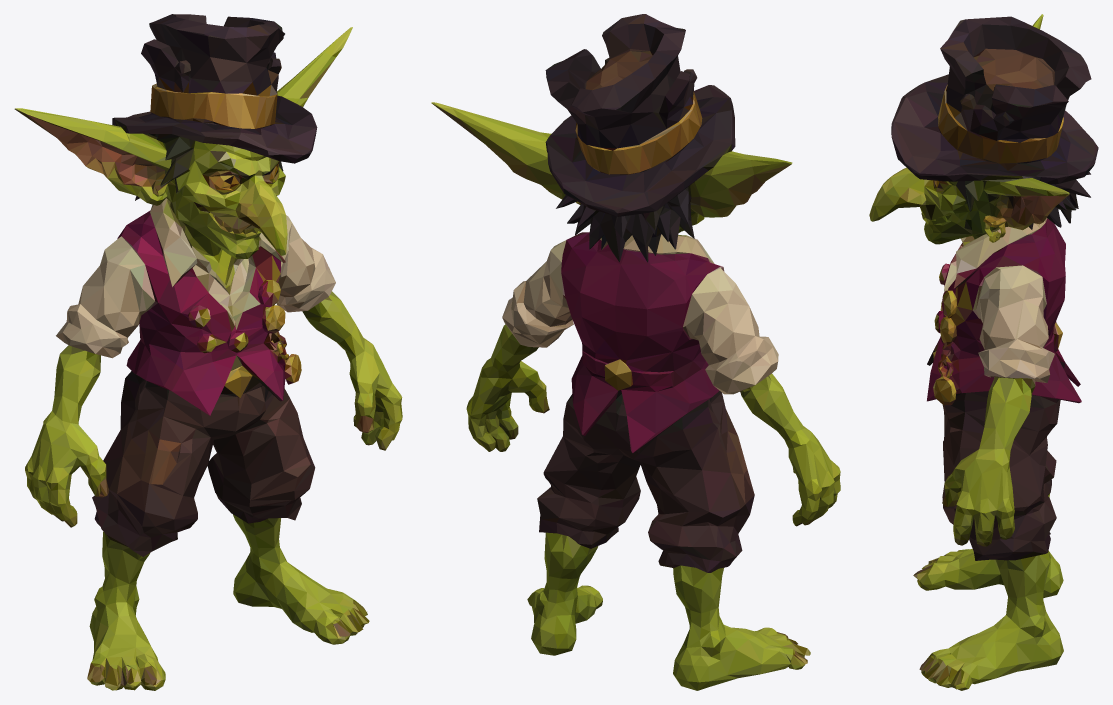
File: grimbo.glb
The picture shows the model from 3 angles, left to right: view 1: azimuth 30°, elevation 25°; view 2: azimuth 150°, elevation 25°; view 3: azimuth 270°, elevation 25°; orthographic projection. The views are drawn at different scales.
Visible parts, largest first — view 1: tripo_node_5688fec2-113f-4b2b-a78b-72a68f3094bd; view 2: tripo_node_5688fec2-113f-4b2b-a78b-72a68f3094bd; view 3: tripo_node_5688fec2-113f-4b2b-a78b-72a68f3094bd.
Part boxes in pixels (x1,y1,x2,y2): tripo_node_5688fec2-113f-4b2b-a78b-72a68f3094bd: (14,14,402,690); tripo_node_5688fec2-113f-4b2b-a78b-72a68f3094bd: (431,14,840,690); tripo_node_5688fec2-113f-4b2b-a78b-72a68f3094bd: (869,14,1098,690).
Size of the model in its own units: 0.7582 by 1.25 by 0.4309.
